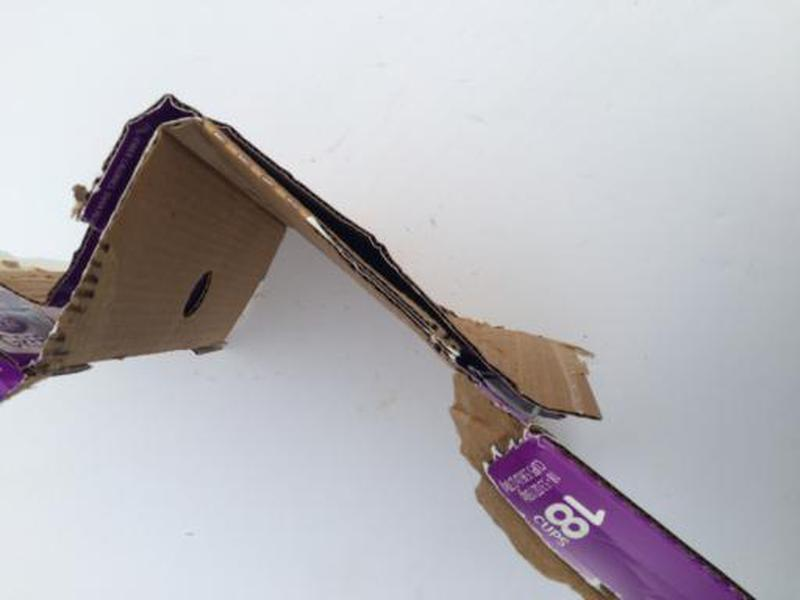cardboard: (1, 87, 770, 600)
